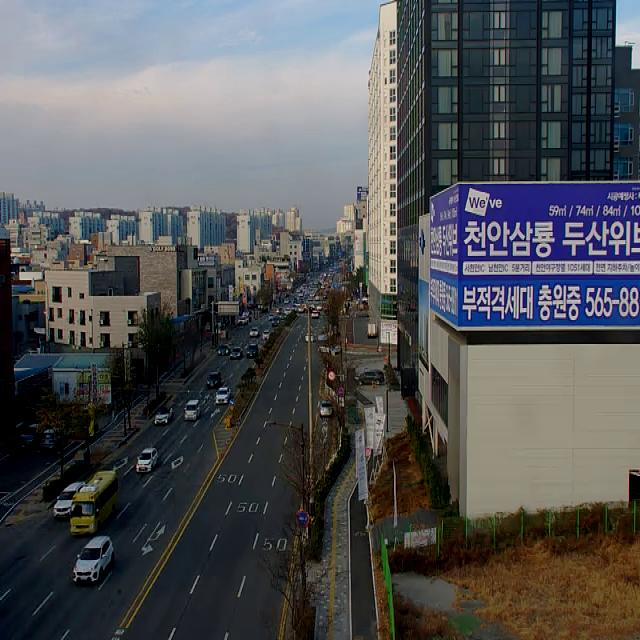Bus: (69, 471, 118, 535)
Car: (73, 536, 114, 584), (54, 481, 86, 519), (40, 427, 66, 451), (17, 424, 40, 450), (136, 448, 158, 472), (355, 368, 385, 384), (154, 406, 172, 425), (184, 400, 200, 420), (216, 386, 231, 404), (206, 372, 221, 389), (320, 399, 333, 418), (368, 319, 379, 336), (230, 347, 243, 359), (247, 344, 258, 358), (218, 344, 231, 355), (250, 326, 260, 338), (263, 329, 271, 340), (305, 334, 314, 343), (272, 316, 280, 326), (312, 310, 319, 318), (269, 313, 275, 321), (285, 308, 291, 315), (280, 314, 286, 320)
